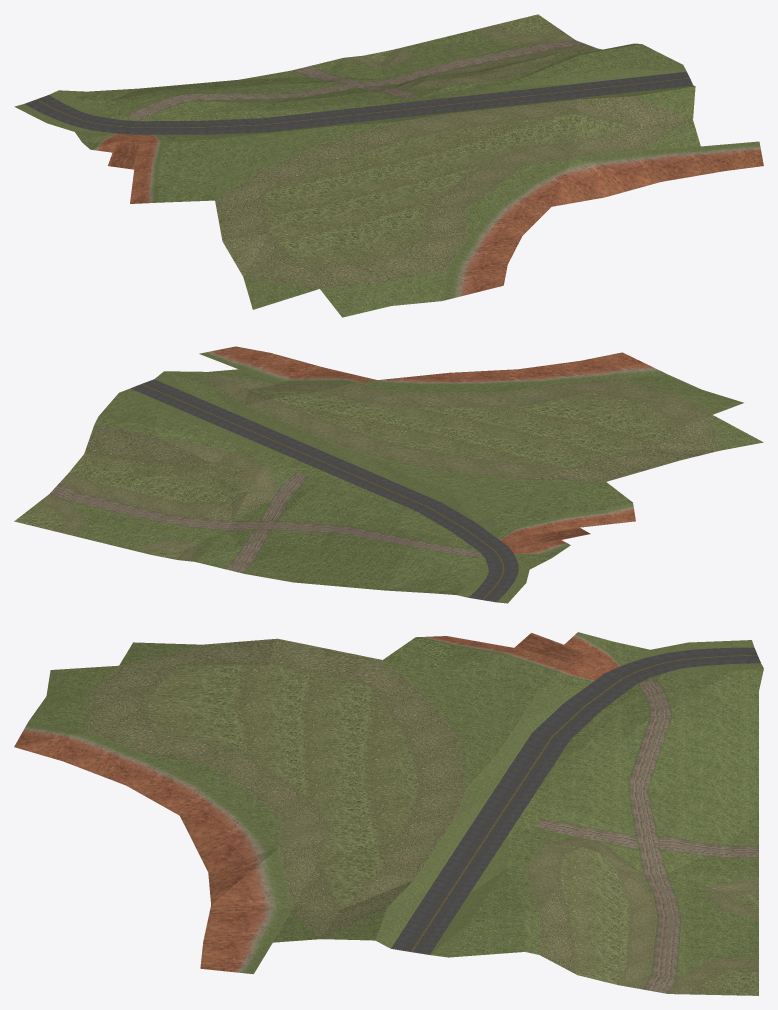
The model's file is se_bit_14.obj.
3 renders of one model, top to bottom at view 1: azimuth 30°, elevation 25°; view 2: azimuth 150°, elevation 25°; view 3: azimuth 270°, elevation 25°, orthographic. The views are drawn at different scales.
Visible parts, largest first — view 1: se_bit_14; view 2: se_bit_14; view 3: se_bit_14.
Boxes of the visible parts, x1,y1,x2,y2 form: se_bit_14: [14, 14, 763, 317]; se_bit_14: [14, 346, 763, 603]; se_bit_14: [14, 632, 763, 995].
Bounding box in the file's own units: 245 × 19.61 × 235.
Materials: 12 (12 with a texture image).
